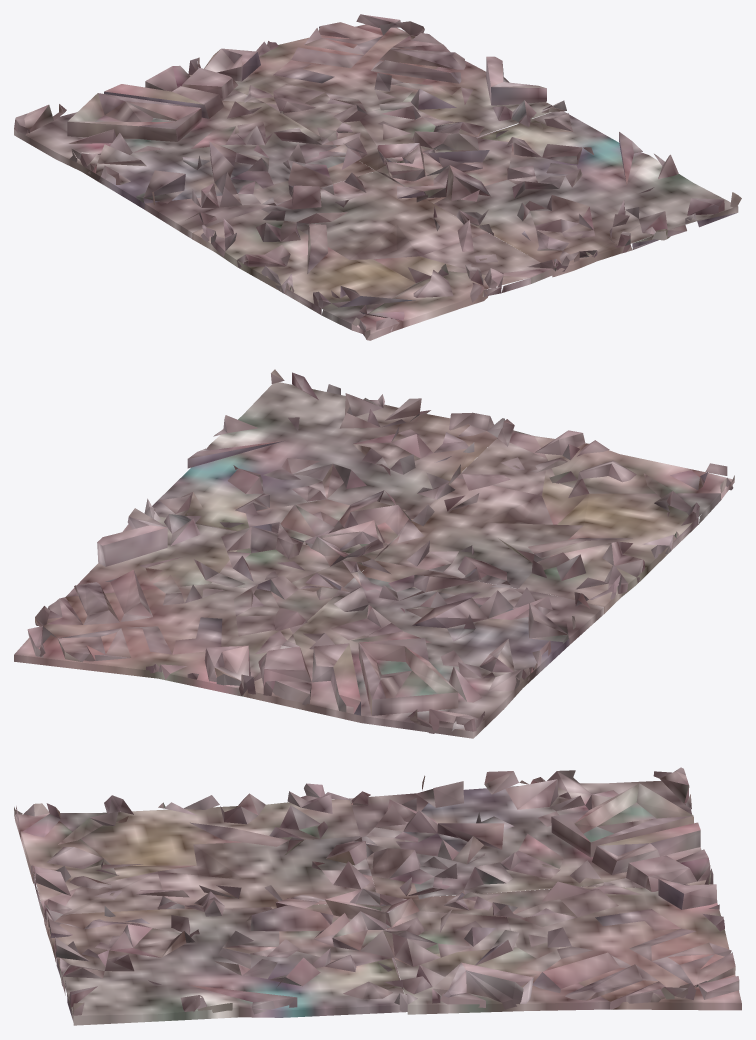
3 renders of one model, top to bottom at view 1: azimuth 30°, elevation 25°; view 2: azimuth 150°, elevation 25°; view 3: azimuth 270°, elevation 25°, orthographic. The views are drawn at different scales.
Visible parts, largest first — view 1: Mesh_0; view 2: Mesh_0; view 3: Mesh_0.
Part boxes in pixels (box(x1,y1,x2,y2)): Mesh_0: box(14, 14, 741, 340); Mesh_0: box(14, 369, 734, 738); Mesh_0: box(14, 767, 741, 1025).
Size of the model in its own units: 537 by 41.9 by 660.
1 material, 1 textured.
